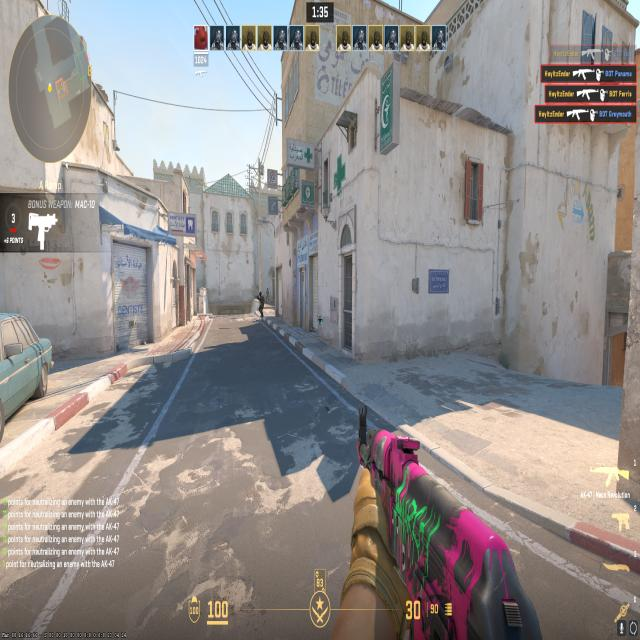ct: (253, 289, 266, 318), (264, 285, 270, 303)
